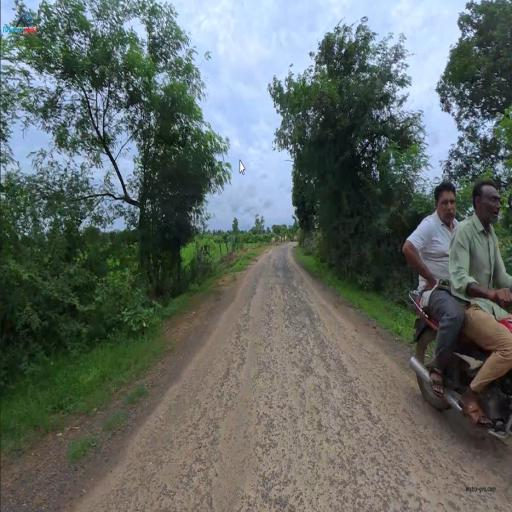ravelling: (240, 323, 355, 502)
